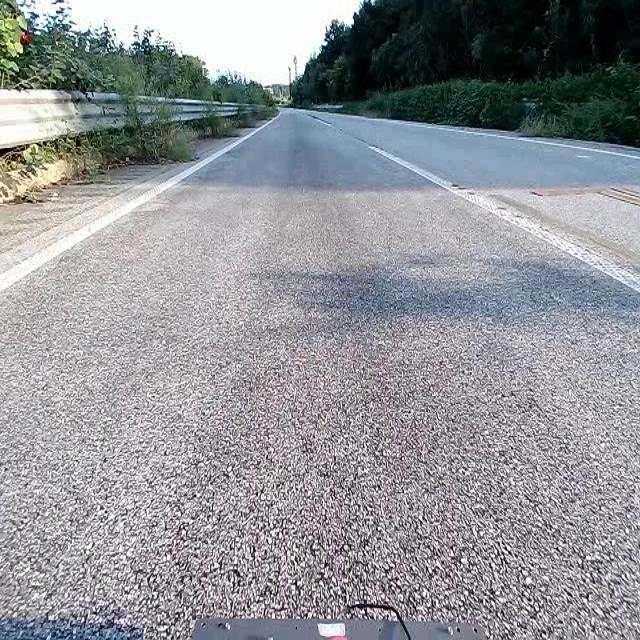Lane: (0, 117, 278, 307), (0, 120, 272, 294), (367, 140, 640, 303), (368, 145, 639, 293)
